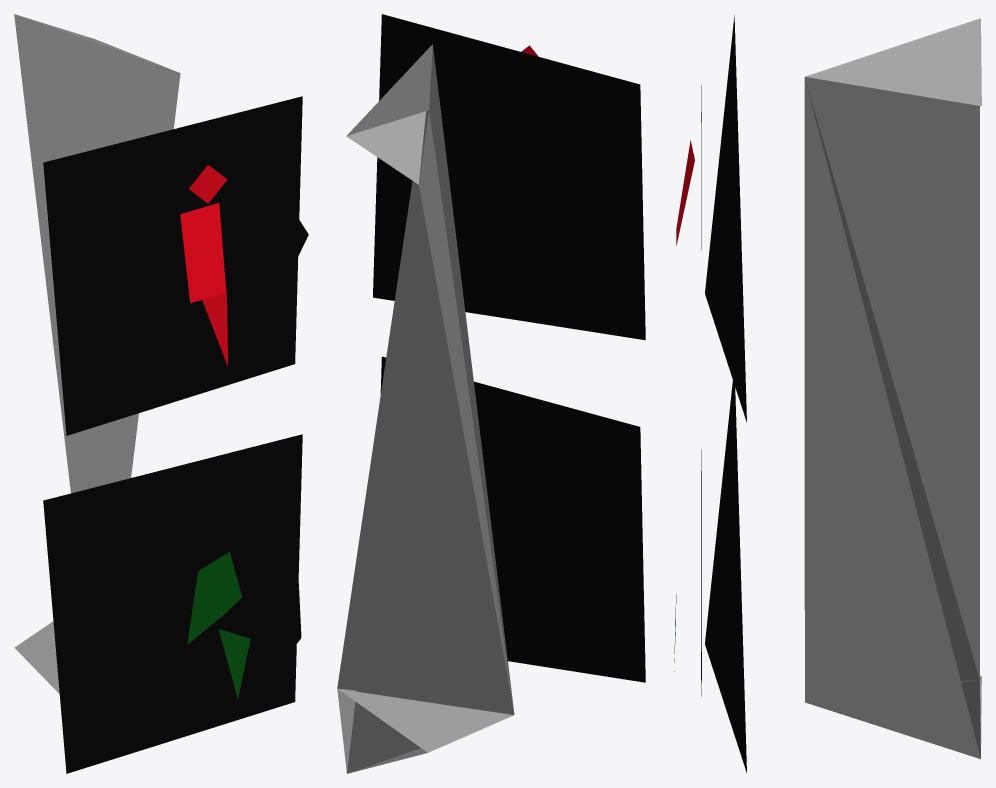
Rendered from SemaforoPedestreLOD2.fbx.
The picture shows the model from 3 angles, left to right: view 1: azimuth 30°, elevation 25°; view 2: azimuth 150°, elevation 25°; view 3: azimuth 270°, elevation 25°; orthographic projection. The views are drawn at different scales.
Parts seen in each view (by area): view 1: SemaforoPedestresLOD2; view 2: SemaforoPedestresLOD2; view 3: SemaforoPedestresLOD2.
Part boxes in pixels (left/top/right/bottom): SemaforoPedestresLOD2: left=14, top=14, right=308, bottom=773; SemaforoPedestresLOD2: left=337, top=14, right=645, bottom=773; SemaforoPedestresLOD2: left=674, top=15, right=981, bottom=772.
Size of the model in its own units: 27.63 by 69.06 by 27.53.
